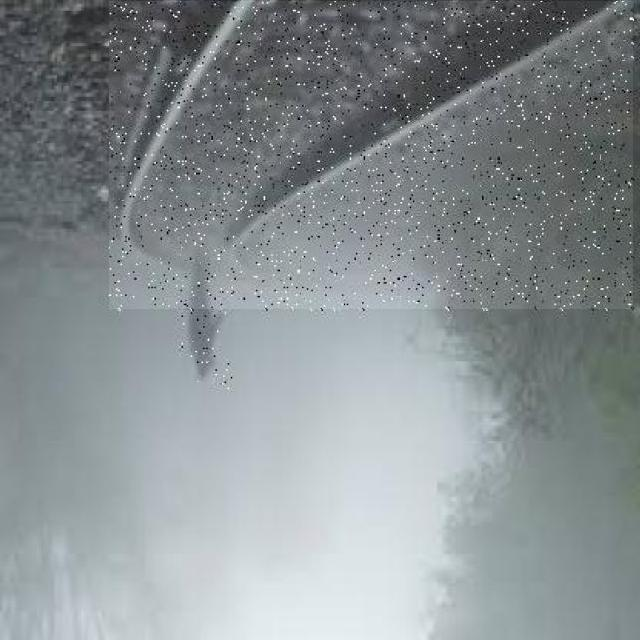rail: (111, 2, 634, 310)
